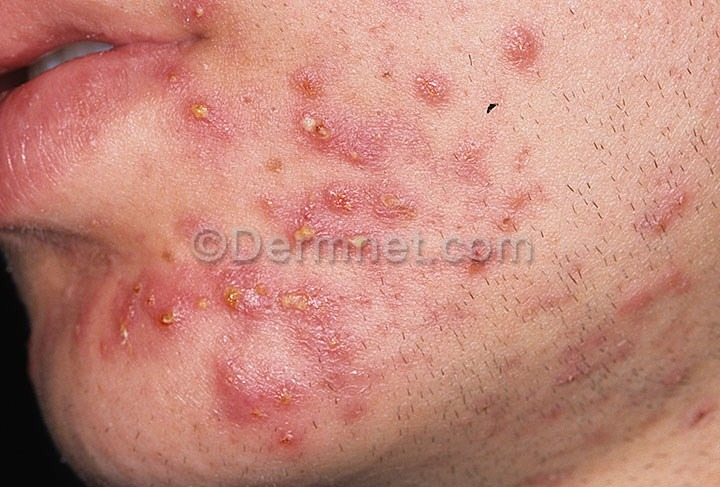Acne: (406, 69, 451, 111), (320, 176, 361, 216), (295, 104, 332, 145), (503, 25, 536, 67), (275, 289, 319, 320), (256, 145, 289, 180), (219, 280, 250, 314), (272, 421, 302, 451), (247, 398, 274, 431), (273, 383, 299, 414), (192, 286, 217, 317), (321, 326, 347, 355), (560, 366, 585, 395), (156, 305, 180, 335), (112, 311, 132, 347), (188, 98, 214, 125), (189, 1, 214, 26), (124, 275, 149, 300), (292, 220, 314, 247), (164, 66, 185, 89)
